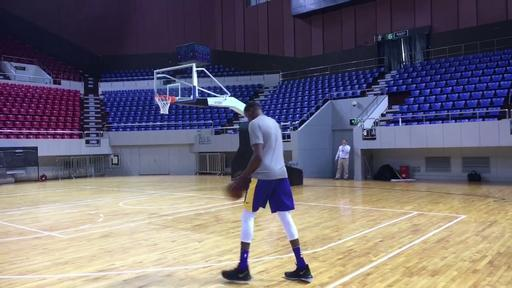ball: (226, 182, 242, 198)
human: (222, 102, 314, 284), (334, 139, 352, 180)
rim: (155, 96, 175, 114)
